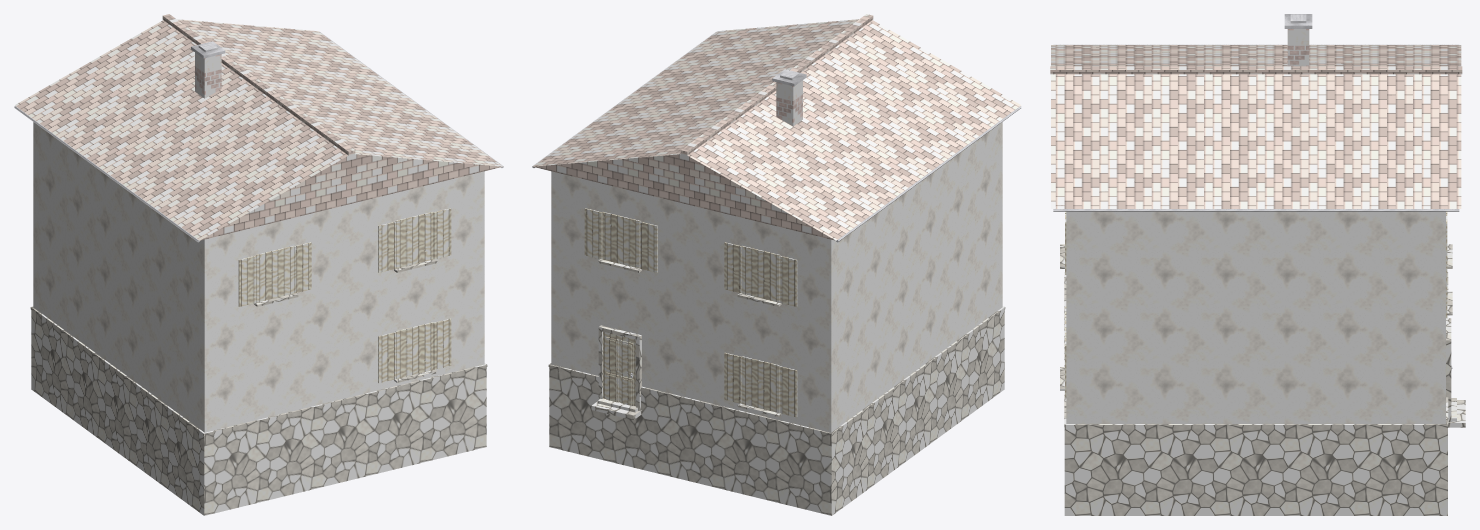
3 renders of one model, left to right at view 1: azimuth 30°, elevation 25°; view 2: azimuth 150°, elevation 25°; view 3: azimuth 270°, elevation 25°, orthographic. The views are drawn at different scales.
Visible parts, largest first — view 1: b1088806818; view 2: b1088806818; view 3: b1088806818.
Boxes of the visible parts, x1=… form: b1088806818: x1=14, y1=14, x2=503, y2=515; b1088806818: x1=532, y1=14, x2=1021, y2=515; b1088806818: x1=1050, y1=14, x2=1465, y2=515.
Bounding box in the file's own units: 9 × 10.26 × 9.54.
Materials: 19 (19 with a texture image).
